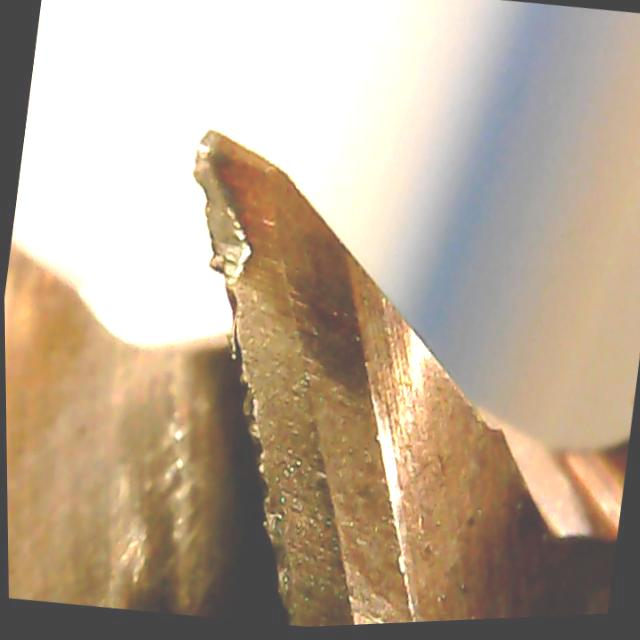Tool-wear-class-2: (154, 104, 359, 358)
